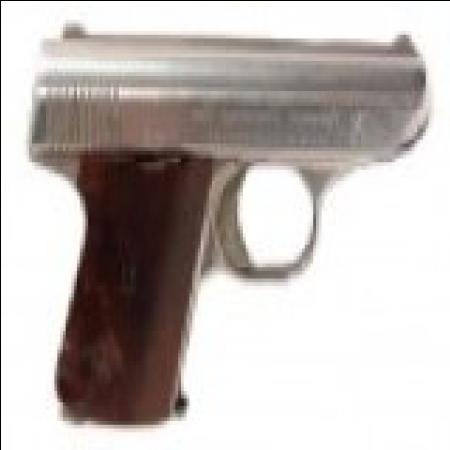Pistol: (22, 15, 422, 424)
